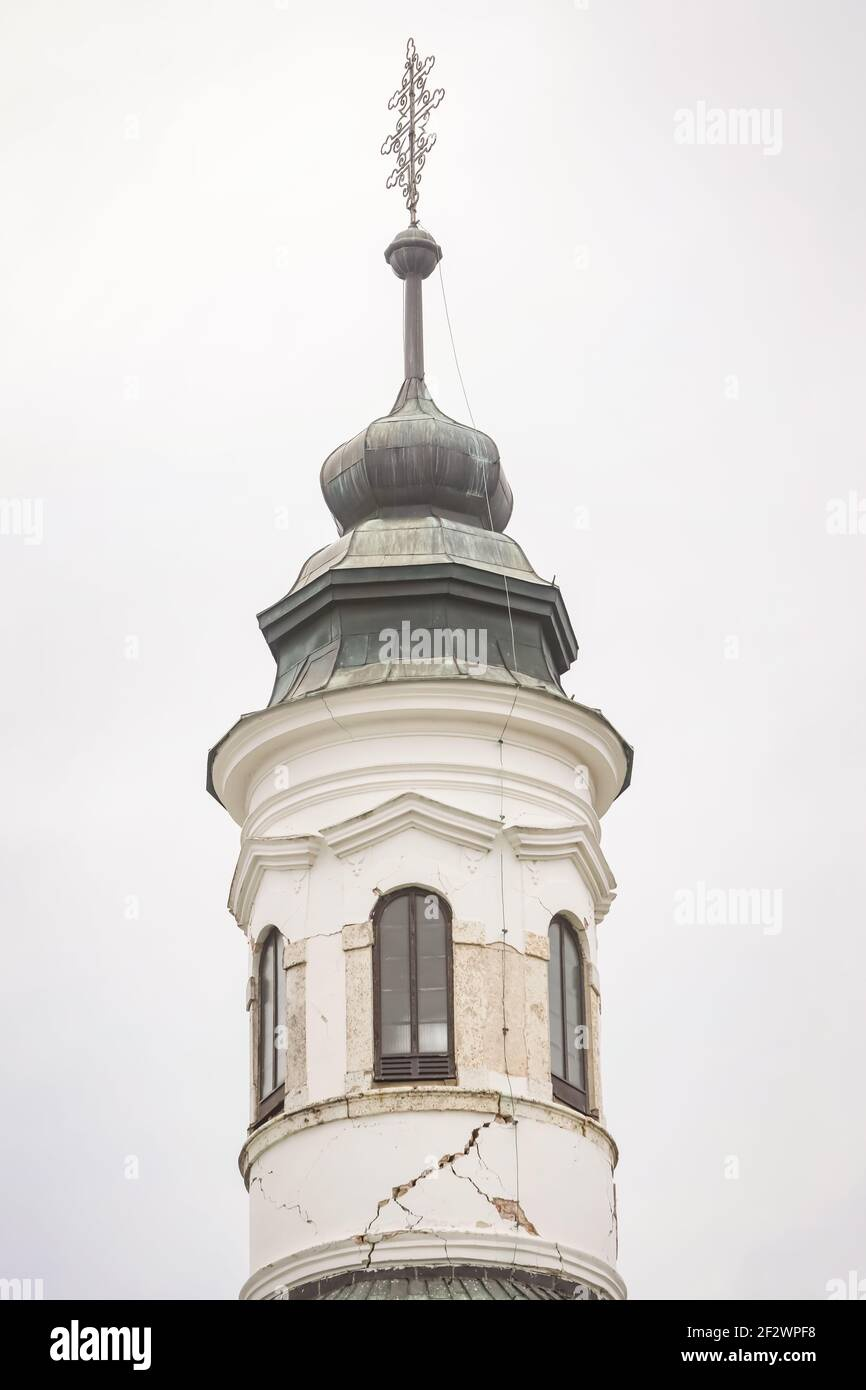crack: (362, 1166, 455, 1232), (439, 1105, 520, 1180)
